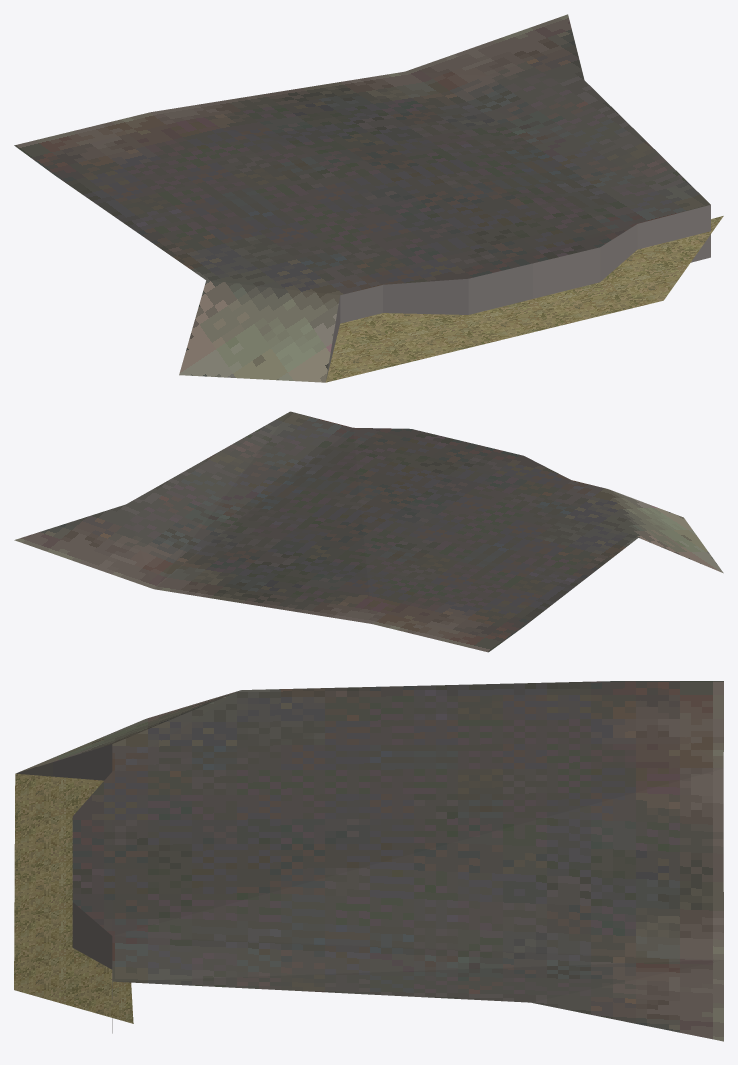
File: lodpark_sfn02.obj
The picture shows the model from 3 angles, top to bottom: view 1: azimuth 30°, elevation 25°; view 2: azimuth 150°, elevation 25°; view 3: azimuth 270°, elevation 25°; orthographic projection. The views are drawn at different scales.
Visible parts, largest first — view 1: LODpark_sfn02; view 2: LODpark_sfn02; view 3: LODpark_sfn02.
Part boxes in pixels (x1,y1,x2,y2): LODpark_sfn02: (14,14,723,382); LODpark_sfn02: (14,411,723,652); LODpark_sfn02: (14,681,723,1041).
Size of the model in its own units: 43 by 3.79 by 33.05.
3 materials, 3 textured.
